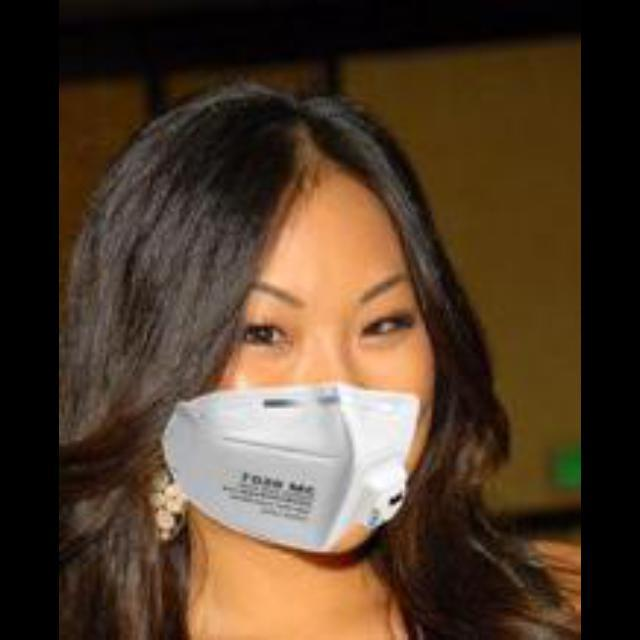suspicion: (128, 91, 454, 551)
